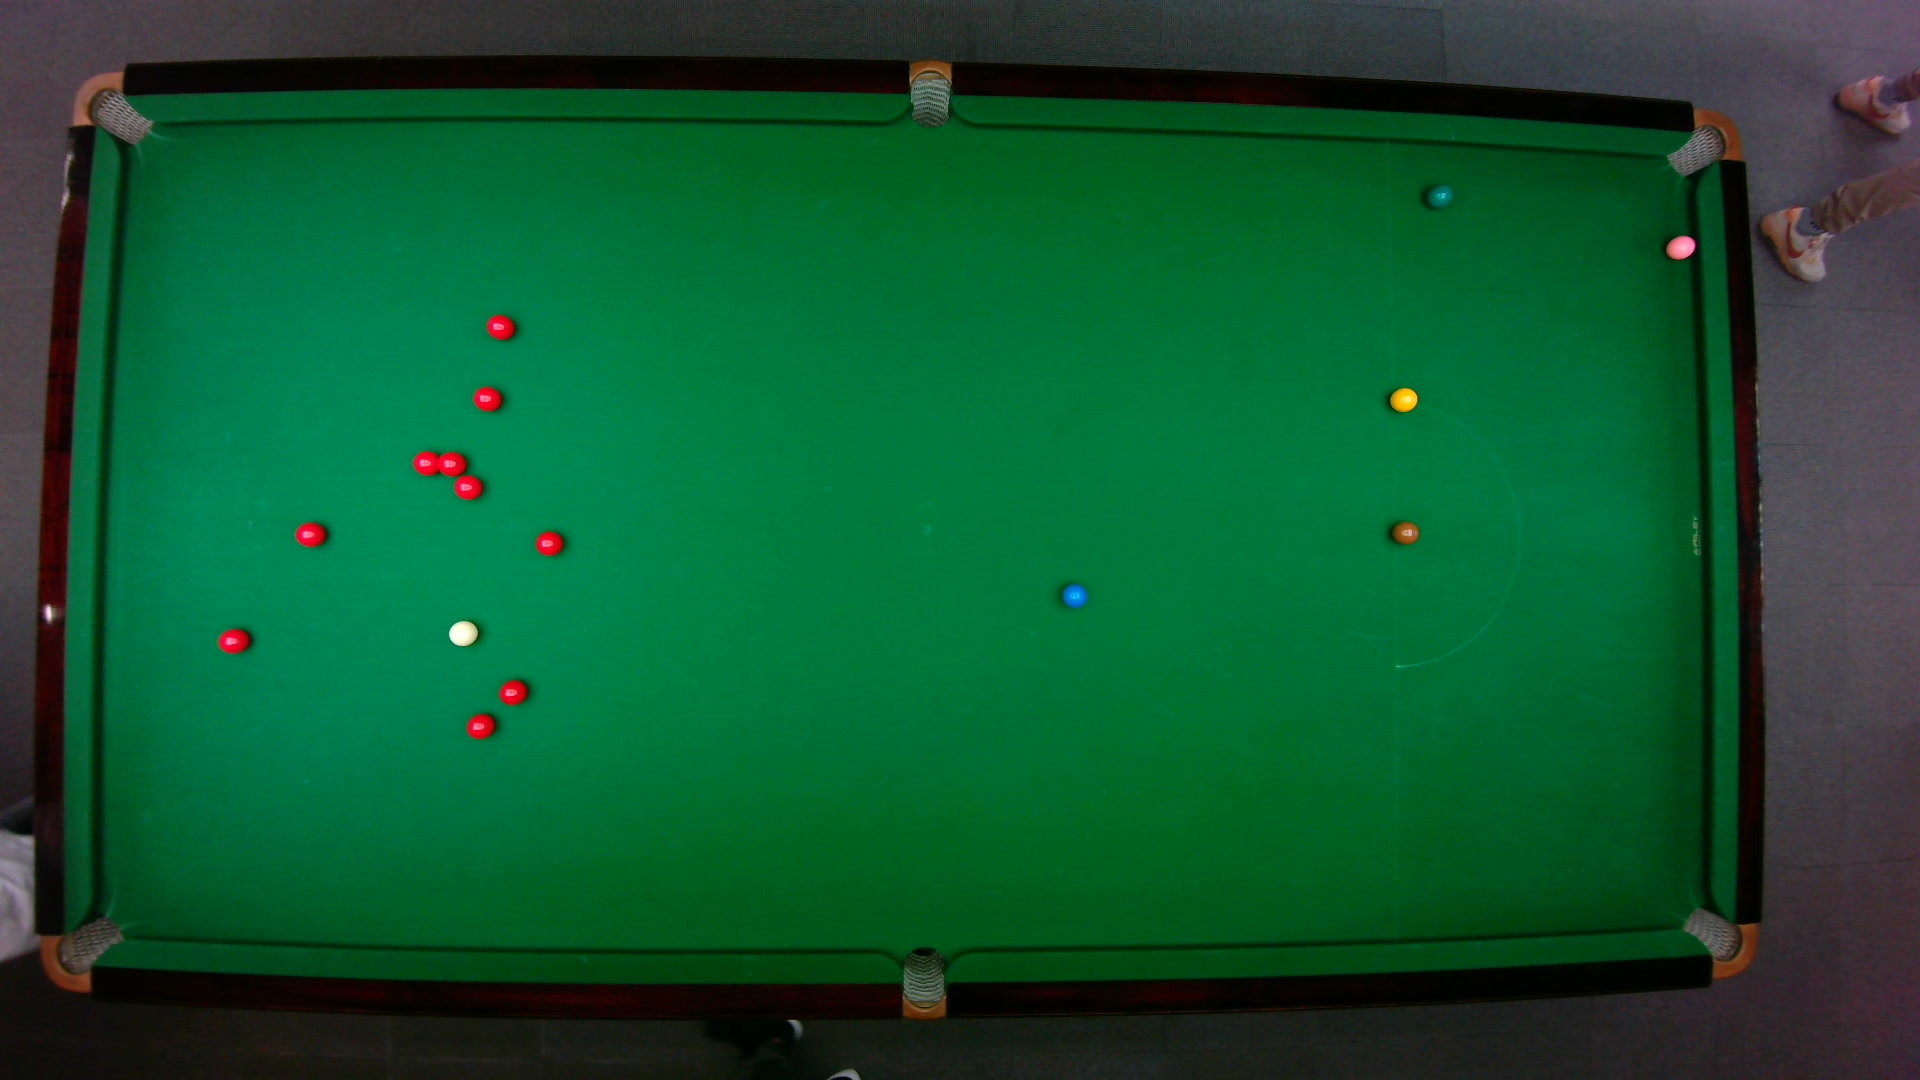bag: (38, 913, 125, 992), (69, 69, 152, 145), (1679, 905, 1756, 978), (1663, 107, 1741, 177), (901, 944, 944, 1021), (909, 57, 949, 128)
blue: (1059, 582, 1087, 608)
brown: (1390, 520, 1419, 545)
green: (1422, 182, 1453, 208)
pink: (1663, 232, 1697, 260)
red: (463, 709, 496, 738), (215, 626, 251, 653), (496, 676, 527, 705), (483, 313, 516, 340), (293, 520, 326, 547), (471, 384, 502, 411), (531, 529, 563, 556), (450, 472, 483, 498), (410, 448, 442, 475), (436, 448, 467, 475)
white: (446, 618, 479, 646)
yellow: (1389, 385, 1419, 411)
zone: (1390, 401, 1520, 667)
